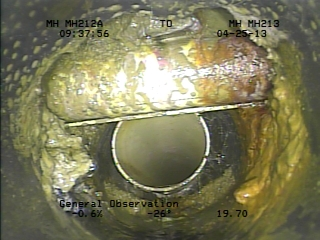cb: (47, 26, 289, 135)
